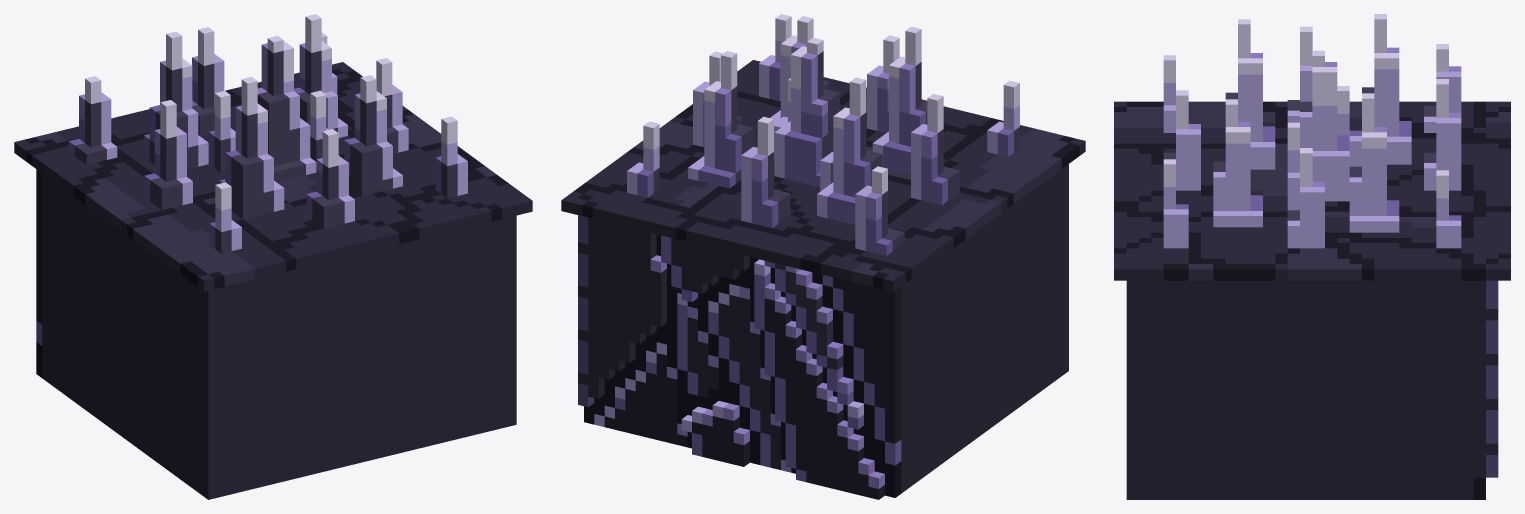
Rendered from Wall_C4_B.obj.
3 views of the same model, side by side, from view 1: azimuth 30°, elevation 25°; view 2: azimuth 150°, elevation 25°; view 3: azimuth 270°, elevation 25° (orthographic). The views are drawn at different scales.
Parts seen in each view (by area): view 1: Wall_C4_B; view 2: Wall_C4_B; view 3: Wall_C4_B.
Boxes of the visible parts, x1,y1,x2,y2 form: Wall_C4_B: [14, 14, 532, 499]; Wall_C4_B: [561, 14, 1085, 499]; Wall_C4_B: [1114, 14, 1510, 499].
Size of the model in its own units: 3.2 by 3.3 by 3.2.
1 material, 1 textured.
